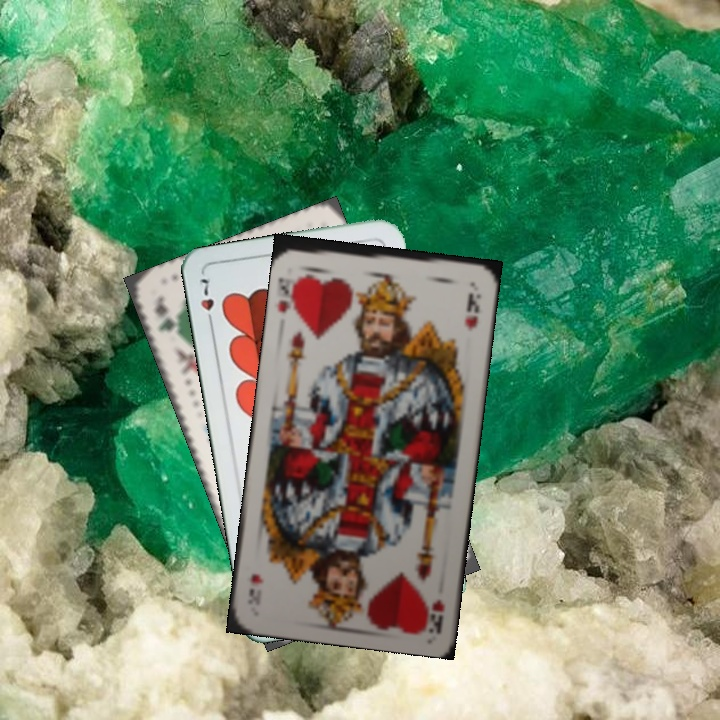GK: (150, 291, 183, 343)
H7: (196, 274, 217, 331)
HK: (273, 272, 304, 317), (426, 595, 447, 631)
